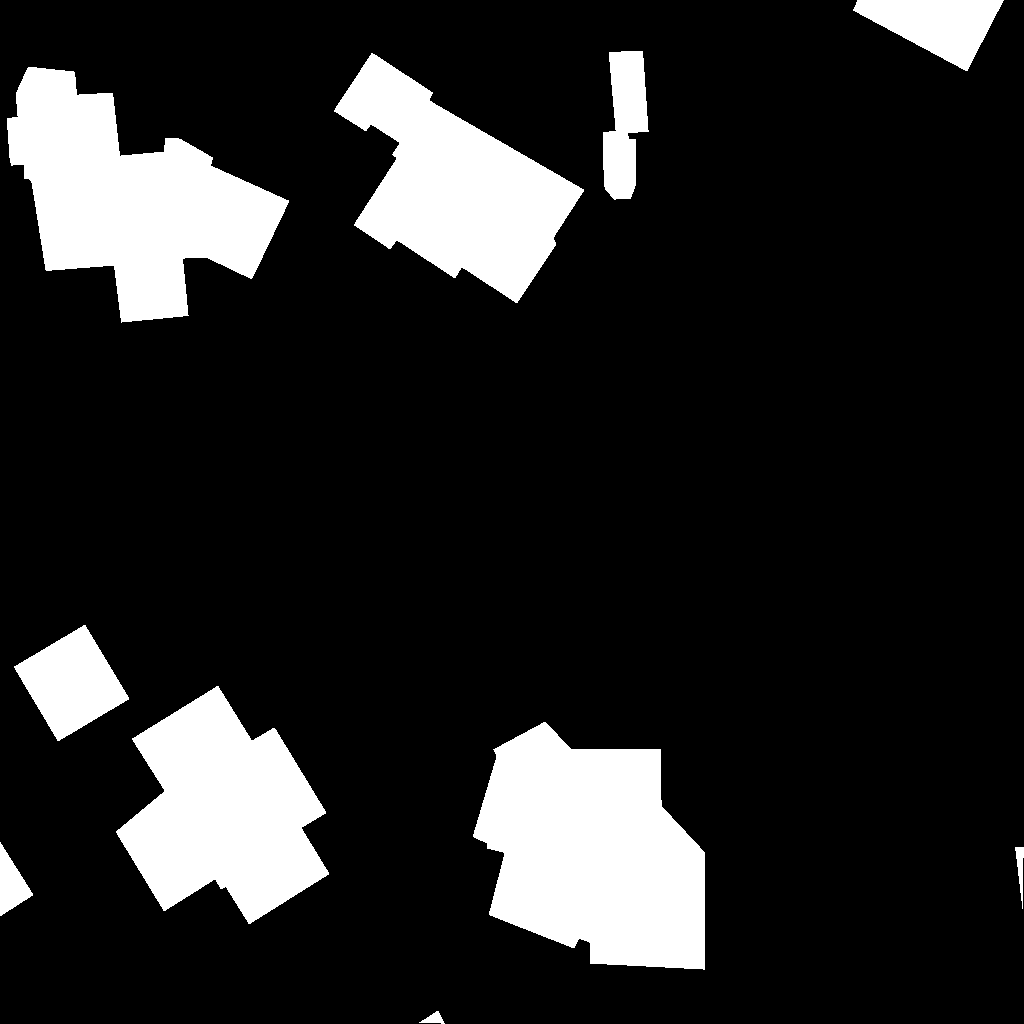building: (7, 67, 290, 323), (334, 53, 585, 304), (473, 722, 706, 970), (116, 686, 330, 925), (14, 625, 130, 742), (853, 0, 1005, 72), (603, 51, 649, 200), (0, 842, 34, 917), (1015, 847, 1024, 914), (419, 1011, 446, 1024)
